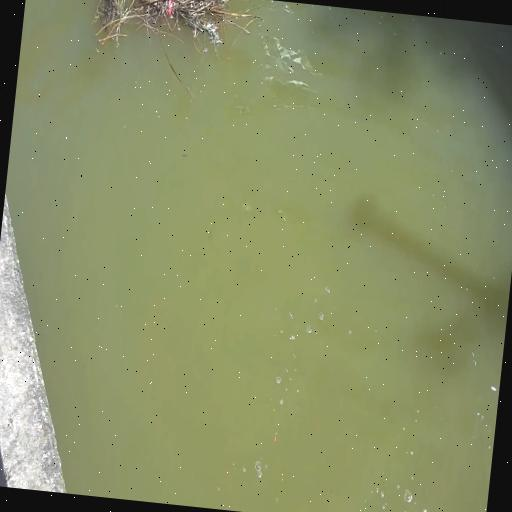twig: (122, 0, 237, 54), (93, 0, 130, 44)
